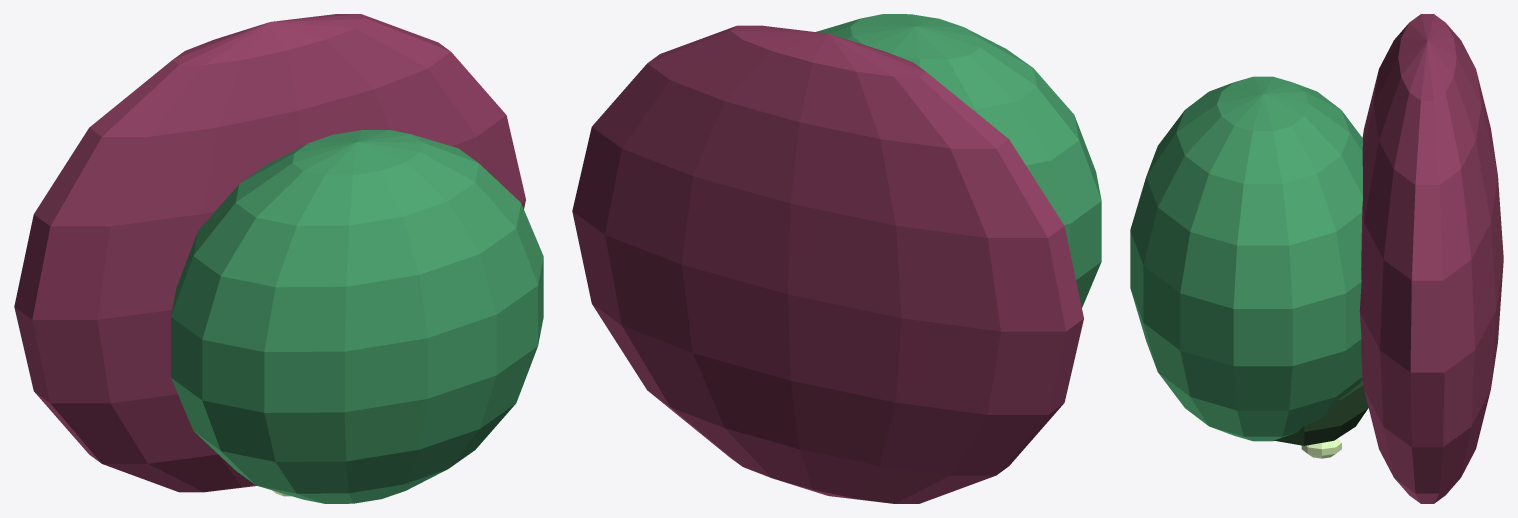
Rendered from GlowcapSlime.glb.
3 views of the same model, side by side, from view 1: azimuth 30°, elevation 25°; view 2: azimuth 150°, elevation 25°; view 3: azimuth 270°, elevation 25° (orthographic). The views are drawn at different scales.
Visible parts, largest first — view 1: Body, Cap; view 2: Cap, Body; view 3: Body, Cap, Face, EyeR.
Boxes of the visible parts, x1,y1,x2,y2 form: Body: (171, 130, 543, 503); Cap: (14, 14, 525, 492); Cap: (572, 25, 1083, 503); Body: (816, 14, 1101, 307); Body: (1130, 76, 1362, 441); Cap: (1359, 14, 1503, 503); Face: (1273, 380, 1368, 445); EyeR: (1301, 439, 1341, 458).
Bounding box in the file's own units: 4.58 × 4.1 × 3.18.
1 material, 1 textured.
